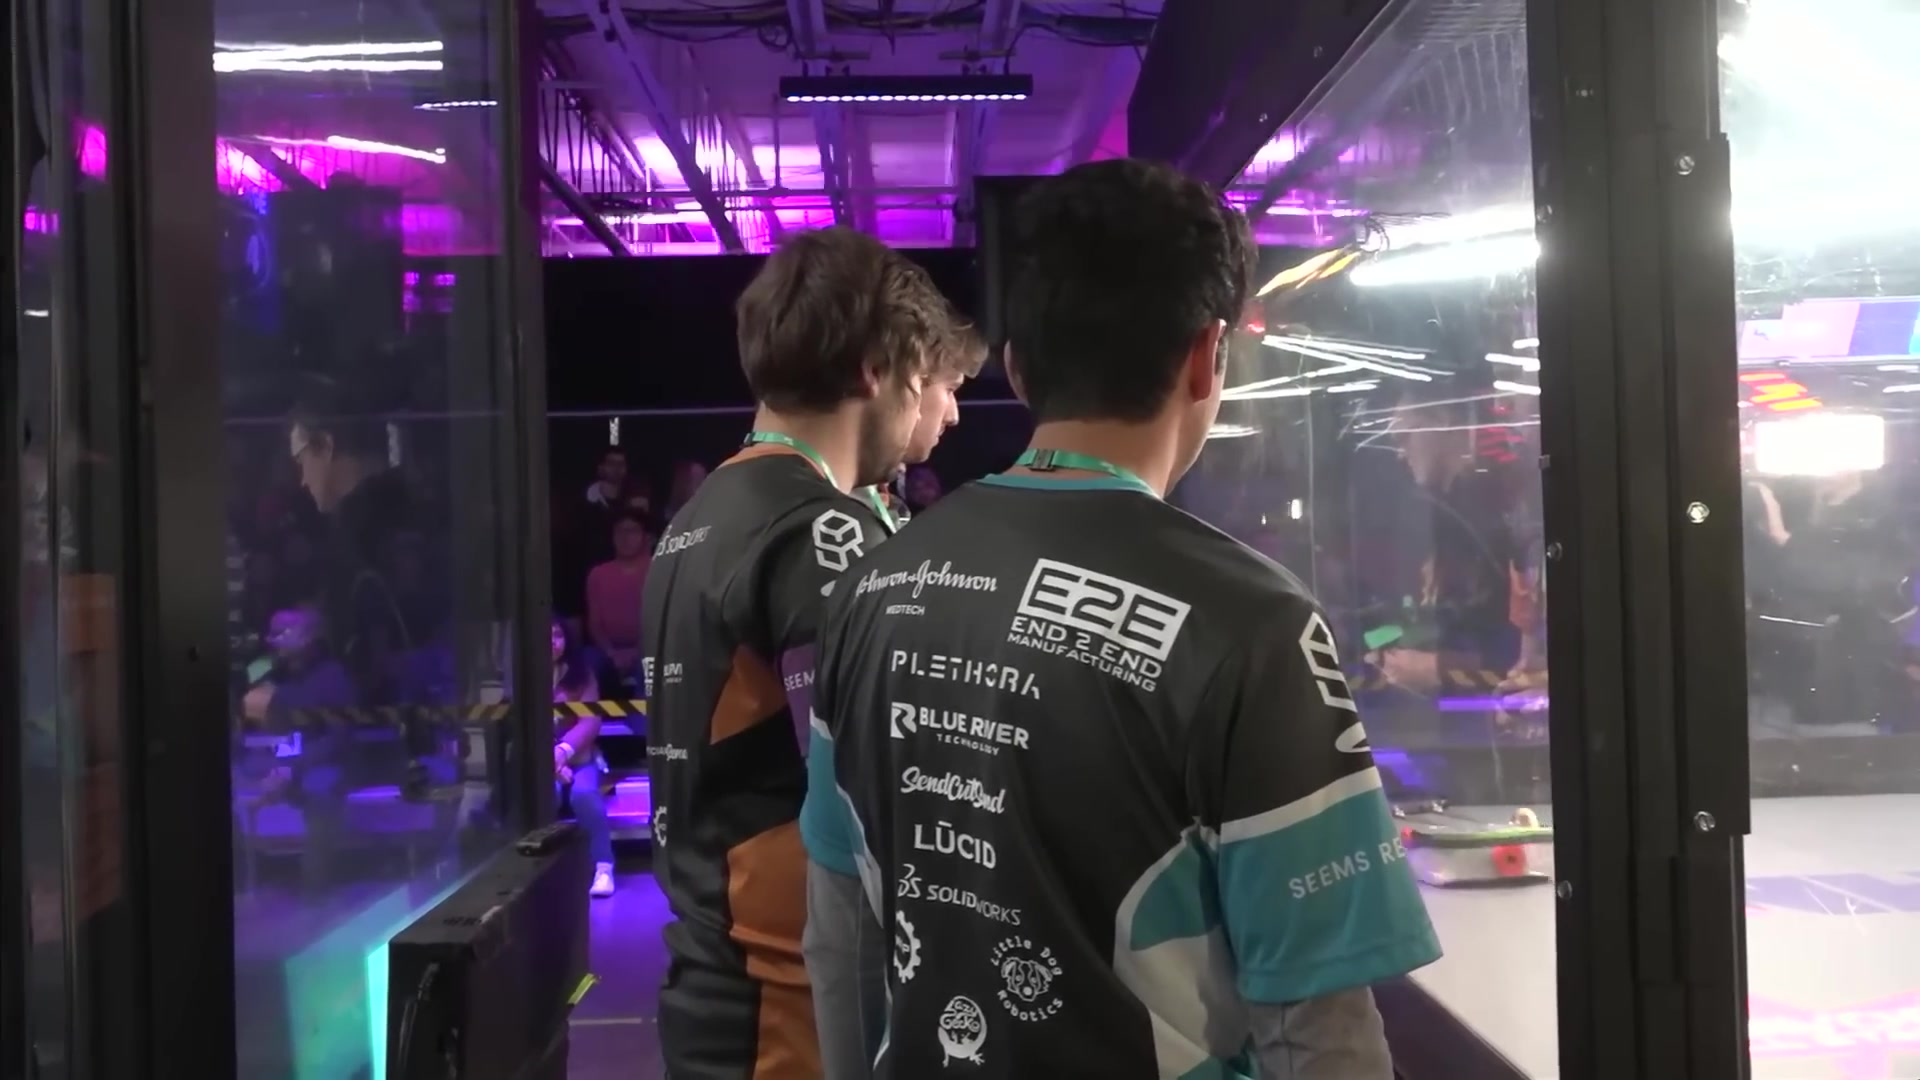combatbot: (1399, 808, 1552, 886)
